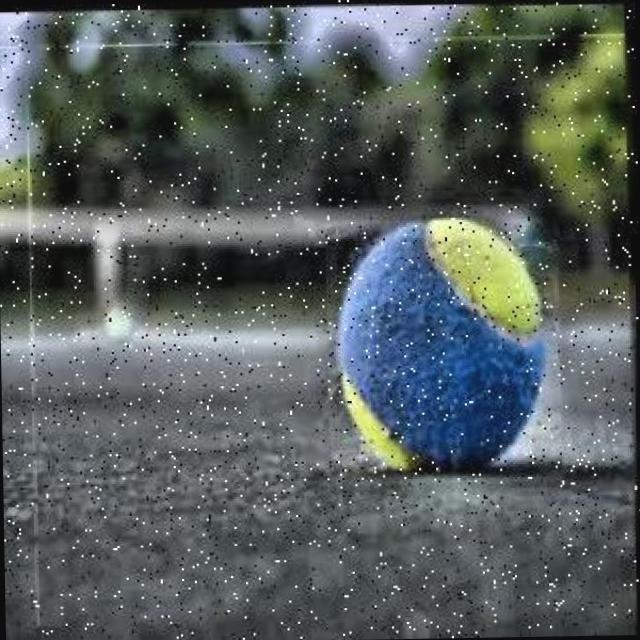tennis-ball: (323, 213, 569, 492)
